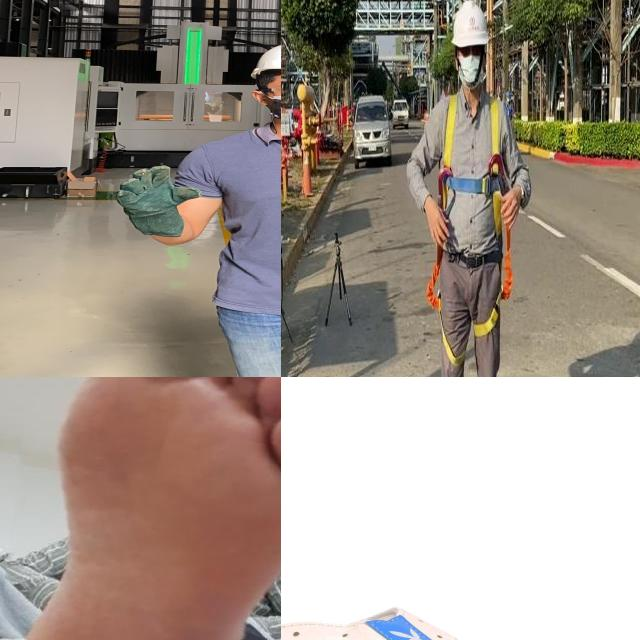Barefoots: (9, 377, 281, 640)
Harness: (439, 95, 514, 300)
face_mask: (259, 79, 281, 124)
glasses: (250, 84, 281, 100)
hand_glove: (109, 161, 206, 218)
head_helmet: (242, 34, 281, 79)
person: (91, 31, 281, 377)
